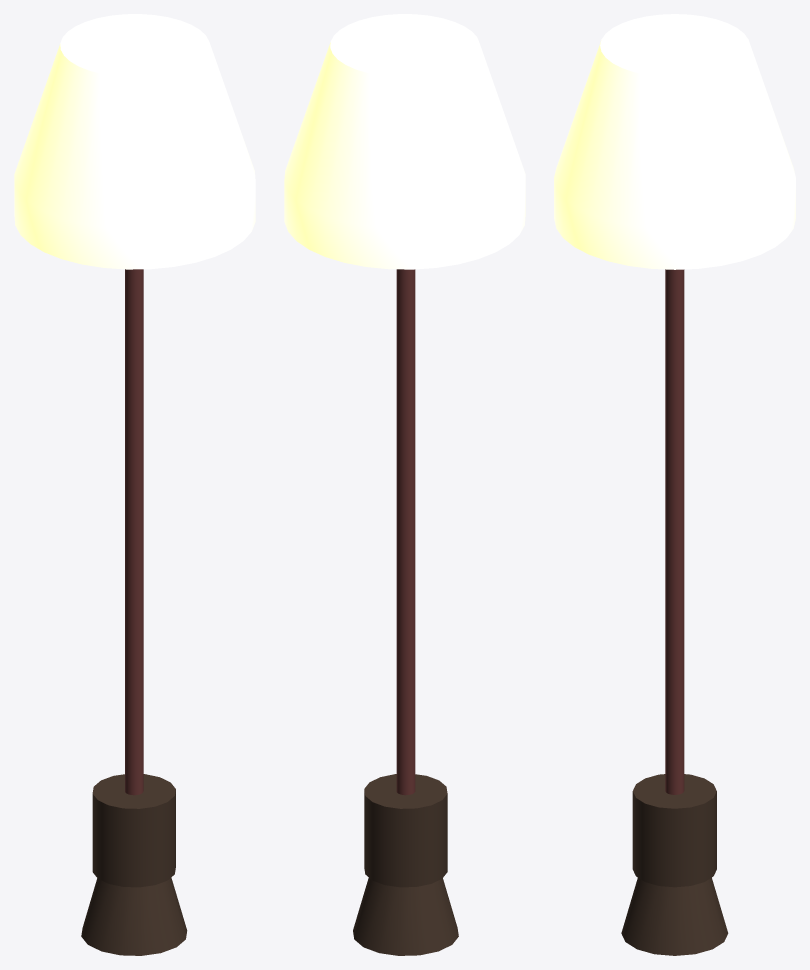
Rendered from lamp2.fbx.
The picture shows the model from 3 angles, left to right: view 1: azimuth 30°, elevation 25°; view 2: azimuth 150°, elevation 25°; view 3: azimuth 270°, elevation 25°; orthographic projection.
Visible parts, largest first — view 1: lamp_top.001, Cylinder.001, Cylinder; view 2: lamp_top.001, Cylinder.001, Cylinder; view 3: lamp_top.001, Cylinder.001, Cylinder.
Part boxes in pixels (left/top/right/bottom): lamp_top.001: left=14, top=14, right=255, bottom=269; Cylinder.001: left=81, top=774, right=187, bottom=955; Cylinder: left=125, top=269, right=143, bottom=795; lamp_top.001: left=284, top=14, right=525, bottom=269; Cylinder.001: left=353, top=774, right=458, bottom=955; Cylinder: left=396, top=269, right=415, bottom=795; lamp_top.001: left=554, top=14, right=795, bottom=269; Cylinder.001: left=621, top=774, right=728, bottom=955; Cylinder: left=665, top=269, right=684, bottom=794.
Size of the model in its own units: 66.53 by 270 by 66.53.
